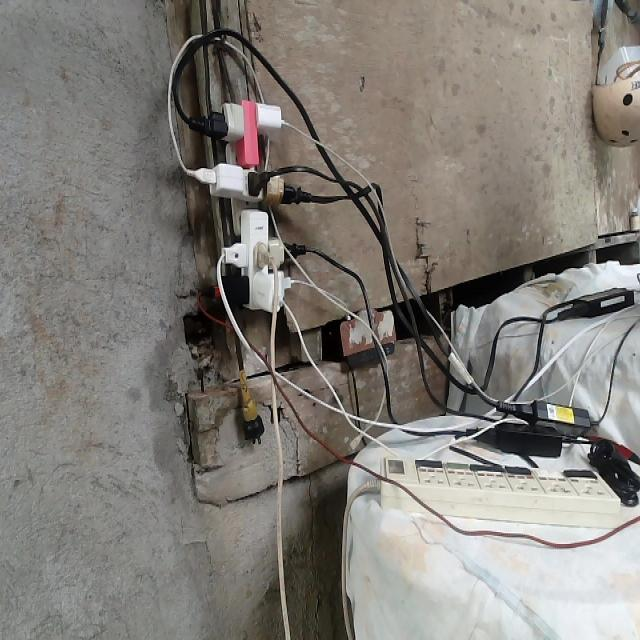-: (156, 23, 330, 352)
